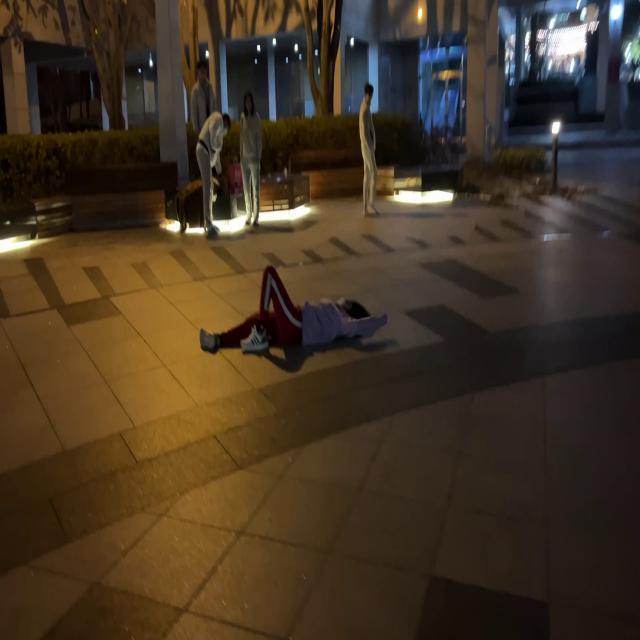Fall: (199, 266, 388, 354)
Stand: (196, 111, 231, 239), (240, 92, 263, 226), (359, 83, 380, 216)
